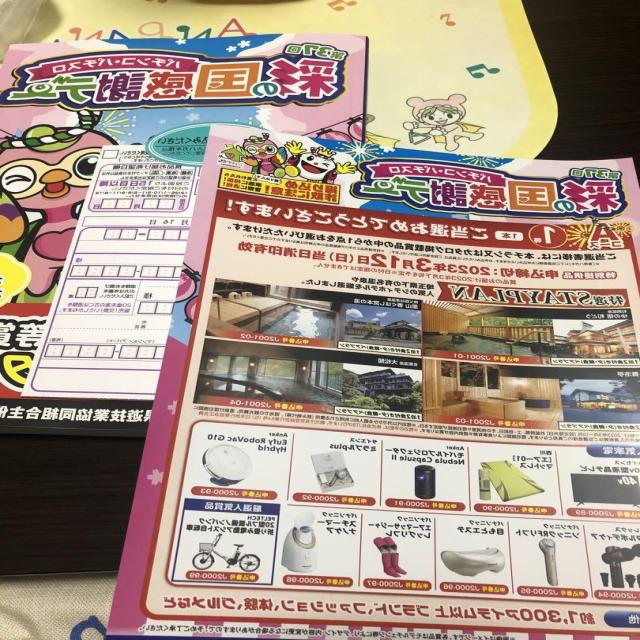paper: (109, 130, 640, 639), (0, 32, 370, 437)
